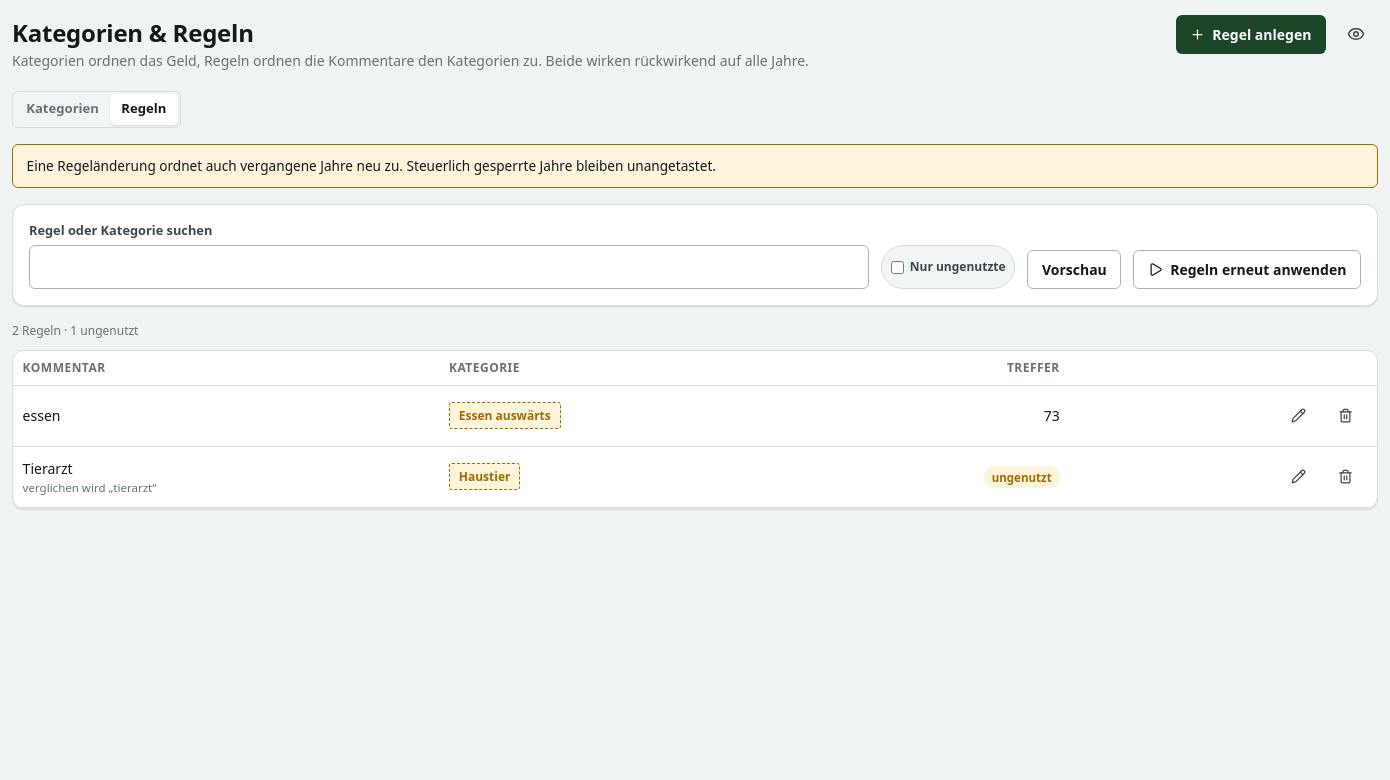
rules › previews an apply run without writing anything
Expected: the text "essen" is shown, [23,406,60,425]
Click the button "Vorschau". click: (1074, 270)
box: [1027,250,1121,289]
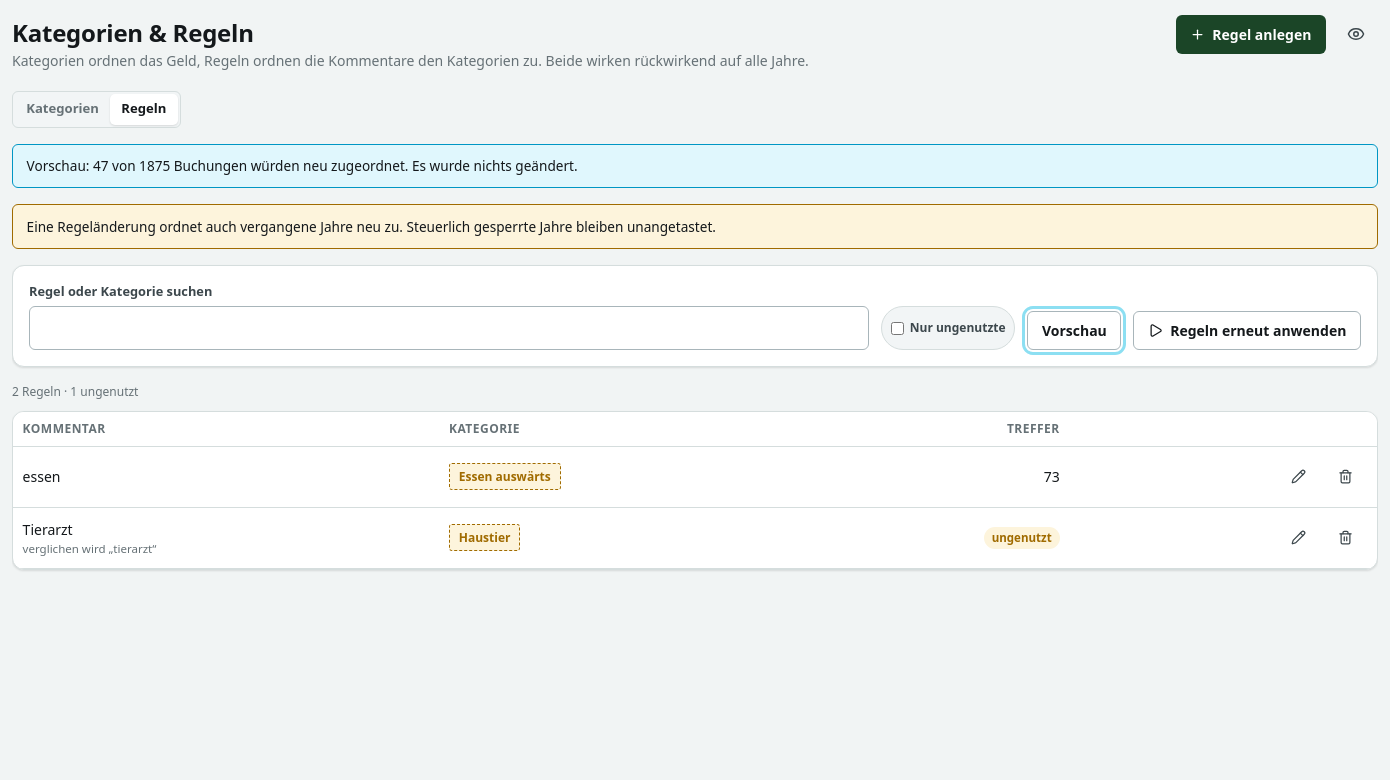
Now the text "Vorschau: 47 von 1875 Buchungen würden neu zugeordnet" is shown, box [27,156,578,175]
